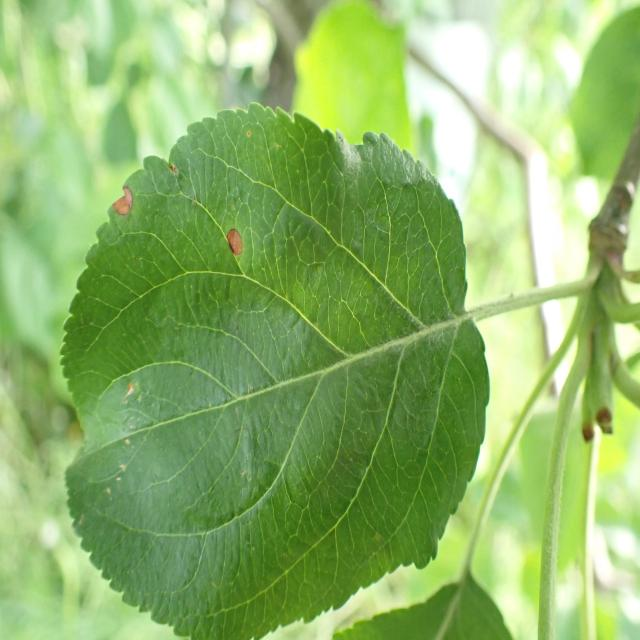Black Rot: (100, 170, 146, 244), (209, 214, 255, 272)
